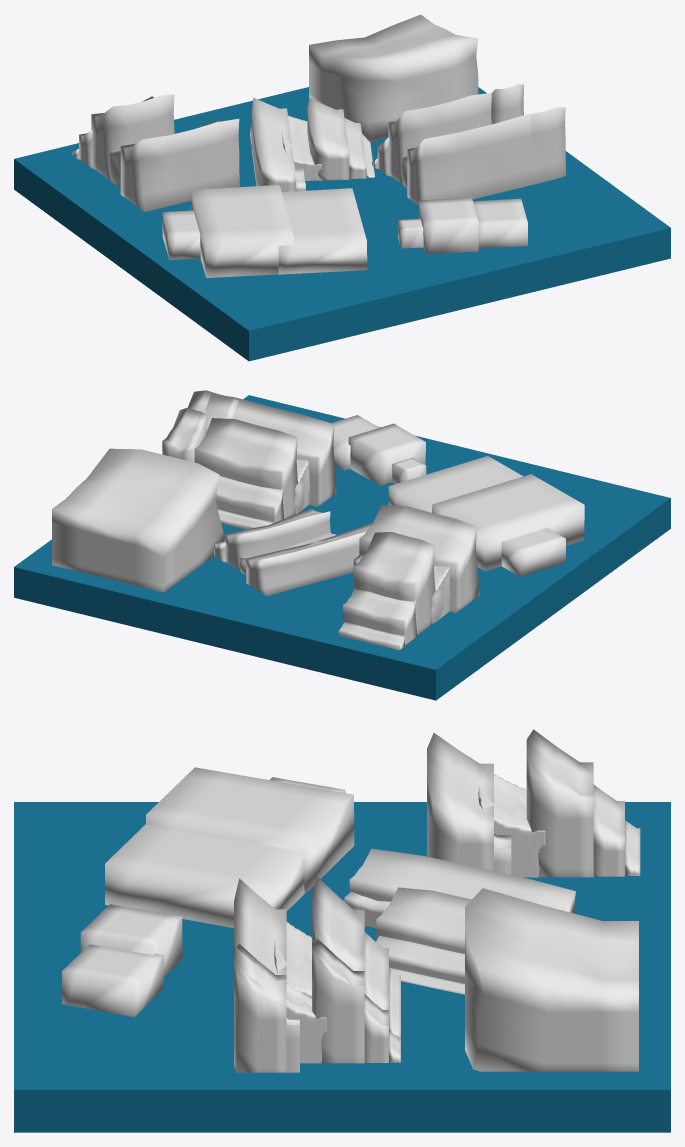
The model's file is nieve.glb.
3 views of the same model, one above another, from view 1: azimuth 30°, elevation 25°; view 2: azimuth 150°, elevation 25°; view 3: azimuth 270°, elevation 25° (orthographic). The views are drawn at different scales.
Visible parts, largest first — view 1: Cube.042, Cube.061, Cube.019, Cube.047, Cube.039, Cube.041, Cube.015, Cube.043, Cube.025, Cube.006, Cube.021, Cube.004 (+6 smaller); view 2: Cube.042, Cube.061, Cube.039, Cube.015, Cube.047, Cube.043, Cube.019, Cube.025, Cube.041, Cube.006, Cube.021, Cube.044 (+11 smaller); view 3: Cube.042, Cube.061, Cube.041, Cube.039, Cube.043, Cube.047, Cube.025, Cube.008, Cube, Cube.004, Cube.021, Cube.006 (+15 smaller).
Part boxes in pixels (x1,y1,x2,y2): Cube.042: (14,87,670,361); Cube.061: (309,14,478,141); Cube.019: (407,111,544,204); Cube.047: (120,118,239,211); Cube.039: (191,185,294,277); Cube.041: (278,188,367,274); Cube.015: (388,93,491,184); Cube.043: (91,94,174,180); Cube.025: (250,97,296,192); Cube.006: (418,197,478,254); Cube.021: (307,98,349,180); Cube.004: (519,107,566,184); Cube.042: (14,395,670,700); Cube.061: (52,448,224,592); Cube.039: (432,474,584,571); Cube.015: (194,418,297,518); Cube.047: (359,504,479,612); Cube.043: (353,531,435,634); Cube.019: (204,394,336,506); Cube.025: (246,522,372,596); Cube.041: (388,456,522,512); Cube.006: (348,423,425,485); Cube.021: (224,508,330,570); Cube.044: (343,589,417,644); Cube.042: (14,802,670,1132); Cube.061: (465,888,638,1071); Cube.041: (105,824,304,927); Cube.039: (146,767,354,893); Cube.043: (526,729,593,877); Cube.047: (427,733,493,870); Cube.025: (349,848,575,913); Cube.008: (62,944,163,1017); Cube: (312,938,364,1063); Cube.004: (234,943,286,1072); Cube.021: (376,887,471,953); Cube.006: (80,904,182,976).
Size of the model in its own units: 117 by 28.64 by 112.
